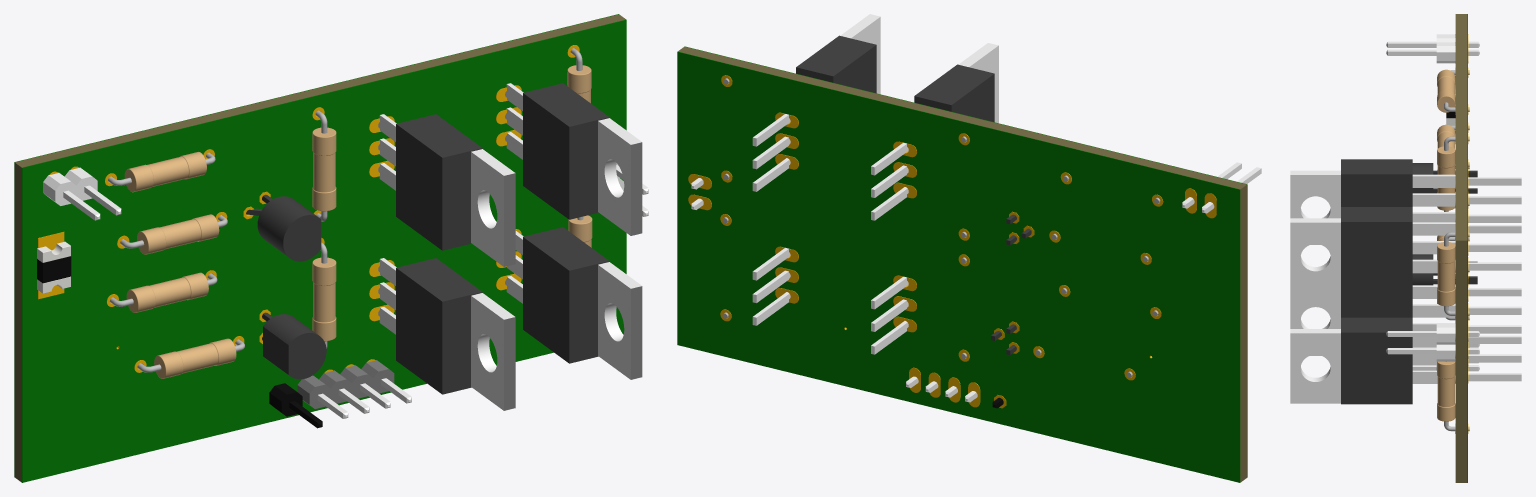
The model's file is H-Bridge v4.fbx.
3 renders of one model, left to right at view 1: azimuth 30°, elevation 25°; view 2: azimuth 150°, elevation 25°; view 3: azimuth 270°, elevation 25°, orthographic. The views are drawn at different scales.
Visible parts, largest first — view 1: Body1 (×18), Board, Body2, Body3; view 2: Body1 (×7), Board, Body2; view 3: Body1 (×16), Board, Body2.
Part boxes in pixels (x1,y1,x2,y2): Body1 (×18): (14, 14, 642, 482); Board: (14, 14, 625, 482); Body2: (49, 45, 579, 376); Body3: (37, 256, 71, 283); Body1 (×7): (677, 14, 1261, 482); Board: (678, 46, 1247, 482); Body2: (688, 75, 1216, 408); Body1 (×16): (1290, 14, 1521, 482); Board: (1456, 14, 1467, 482); Body2: (1468, 34, 1468, 433).
Bounding box in the file's own units: 72.59 × 36.22 × 31.24.
